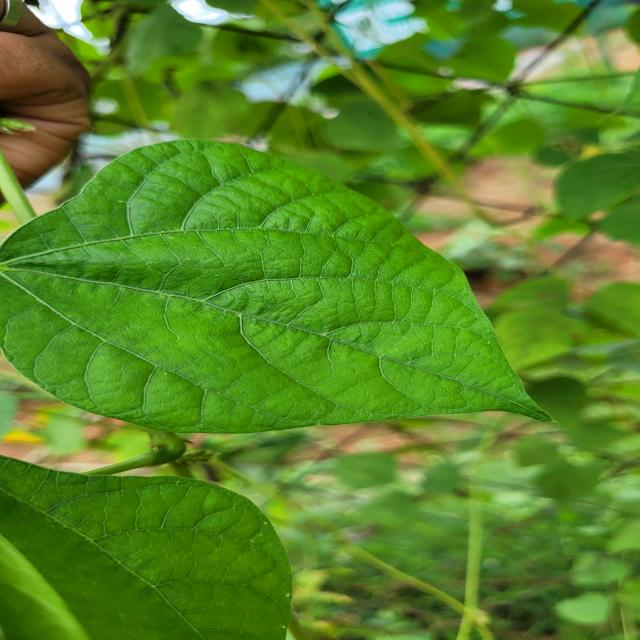Dolicos bean_healthy: (1, 143, 540, 438), (0, 449, 291, 640)
